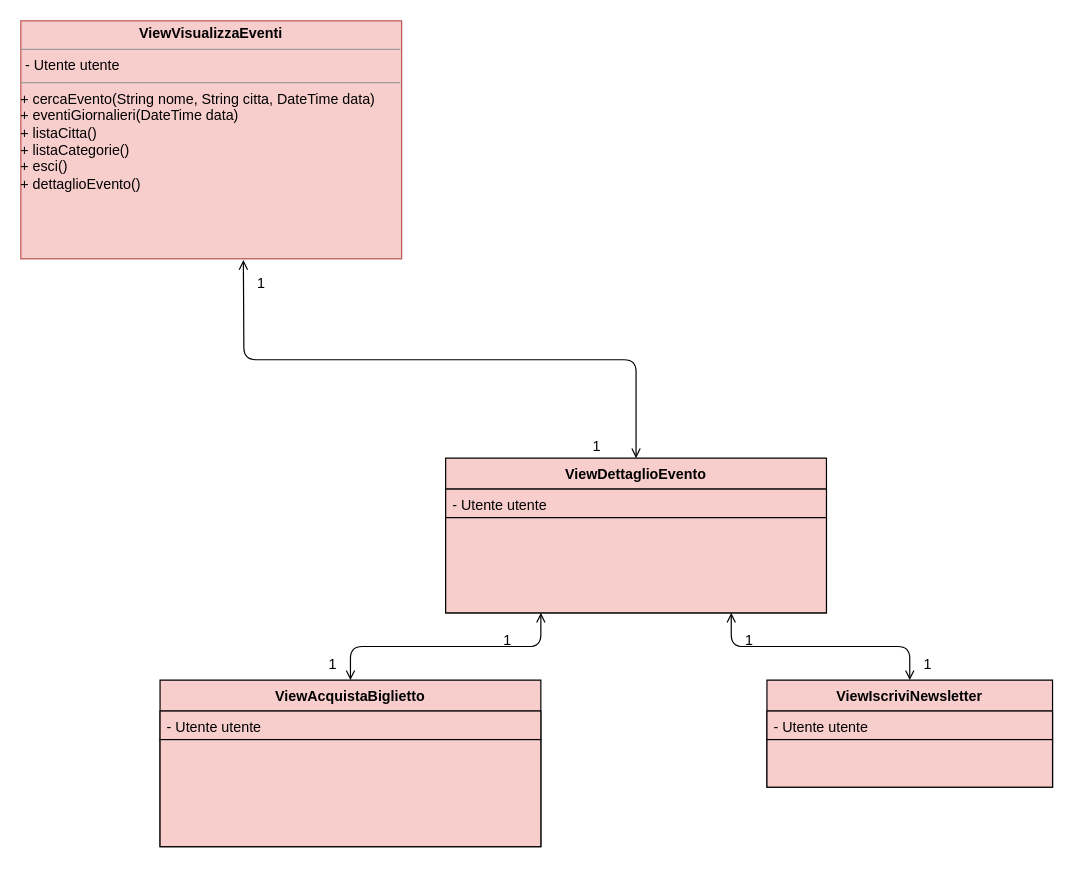
Some shapes in this 1073 by 871 pixel diagram are drawn without their labels. The centre of each missing label's shape, as x and y in pixels:
"+ bool compraBiglietto() + isSconto() + esci()" belongs at point (350, 792).
"+ inserisciIscrizione() + esci()" belongs at point (909, 762).
"+ iscriviNewsletter() + compraBiglietto() + coloreStella() + esci()" belongs at point (635, 564).
